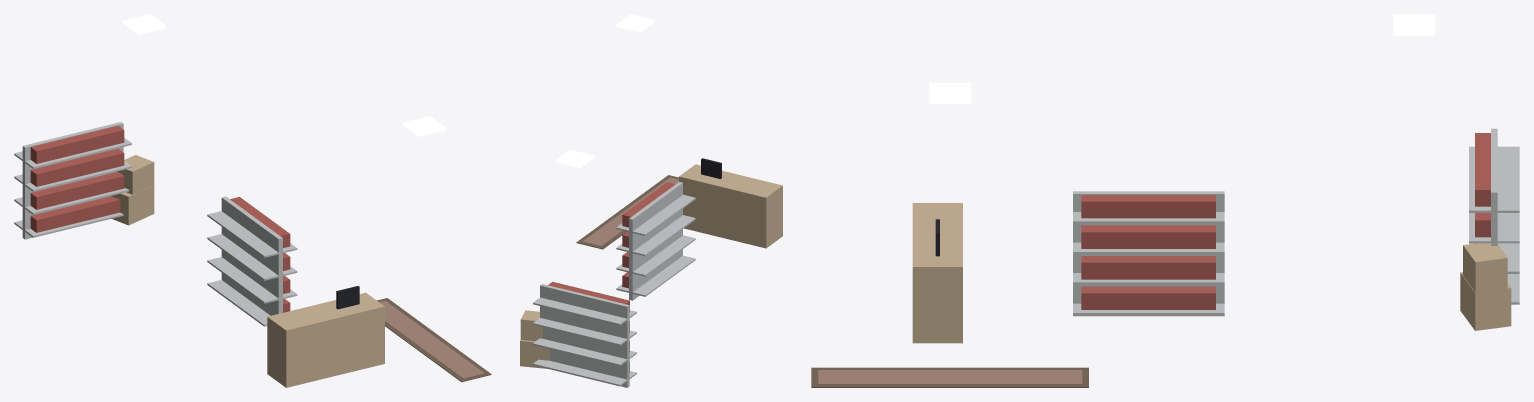
Rendered from fine-s0.glb.
3 renders of one model, left to right at view 1: azimuth 30°, elevation 25°; view 2: azimuth 150°, elevation 25°; view 3: azimuth 270°, elevation 25°, orthographic. The views are drawn at different scales.
Visible parts, largest first — view 1: shelving.000, shop-counter.000, shelf.000, soft-s0, cardboard-box.000, ceiling-lamp.001, ceiling-lamp.000; view 2: shelving.000, shop-counter.000, shelf.000, soft-s0, cardboard-box.000, ceiling-lamp.000, ceiling-lamp.001; view 3: shelf.000, shop-counter.000, shelving.000, soft-s0, cardboard-box.000, ceiling-lamp.000, ceiling-lamp.001.
Part boxes in pixels (x1,y1,x2,y2): shelving.000: [14, 122, 131, 239]; shop-counter.000: [267, 286, 384, 387]; shelf.000: [207, 196, 297, 326]; soft-s0: [377, 298, 491, 382]; cardboard-box.000: [111, 155, 154, 225]; ceiling-lamp.001: [123, 14, 165, 34]; ceiling-lamp.000: [403, 116, 445, 136]; shelving.000: [533, 281, 636, 387]; shop-counter.000: [679, 158, 782, 248]; shelf.000: [616, 182, 695, 300]; soft-s0: [576, 175, 678, 249]; cardboard-box.000: [520, 310, 550, 368]; ceiling-lamp.000: [616, 14, 654, 32]; ceiling-lamp.001: [556, 149, 593, 167]; shelf.000: [1073, 191, 1224, 316]; shop-counter.000: [912, 203, 962, 343]; shelving.000: [1469, 128, 1519, 304]; soft-s0: [811, 367, 1088, 387]; cardboard-box.000: [1460, 243, 1511, 330]; ceiling-lamp.000: [929, 82, 971, 104]; ceiling-lamp.001: [1393, 14, 1435, 35].
Size of the model in its own units: 3.85 by 3.75 by 8.4.
